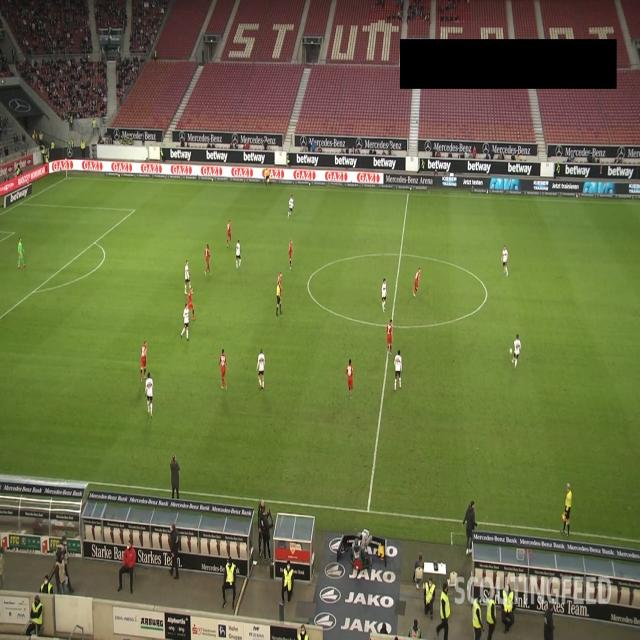ball: (508, 347, 512, 355)
